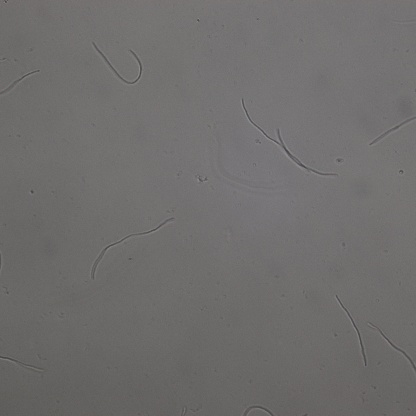Sensitive: (241, 97, 338, 176), (90, 217, 172, 280), (92, 40, 143, 85), (368, 324, 416, 371), (335, 294, 366, 366), (369, 115, 416, 145), (1, 69, 40, 95), (1, 351, 44, 373)
